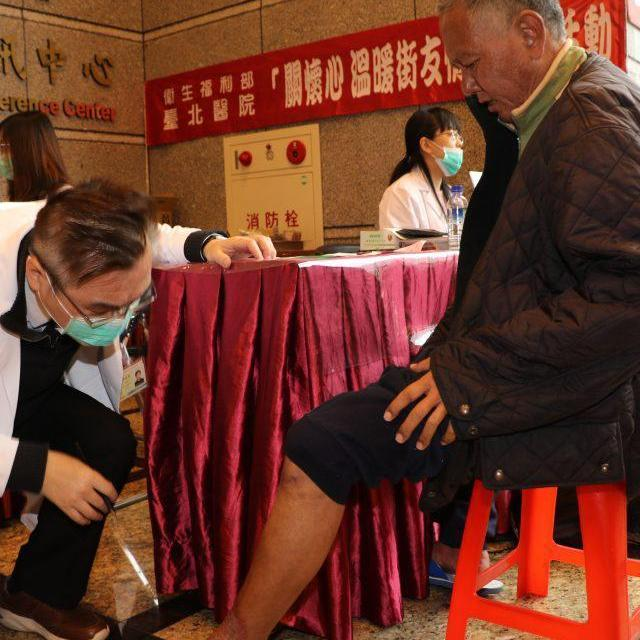Mask: (66, 315, 138, 345), (437, 145, 467, 178), (0, 152, 17, 177)
NO-Hardhat: (40, 178, 153, 284), (433, 0, 530, 45), (0, 109, 55, 144), (401, 105, 459, 133)
NO-Mask: (478, 56, 535, 121)
NO-Safety Vest: (469, 64, 640, 412), (0, 198, 79, 438), (393, 171, 457, 229)
Person: (170, 0, 640, 640), (0, 179, 275, 640), (377, 102, 478, 236), (0, 108, 73, 199)
